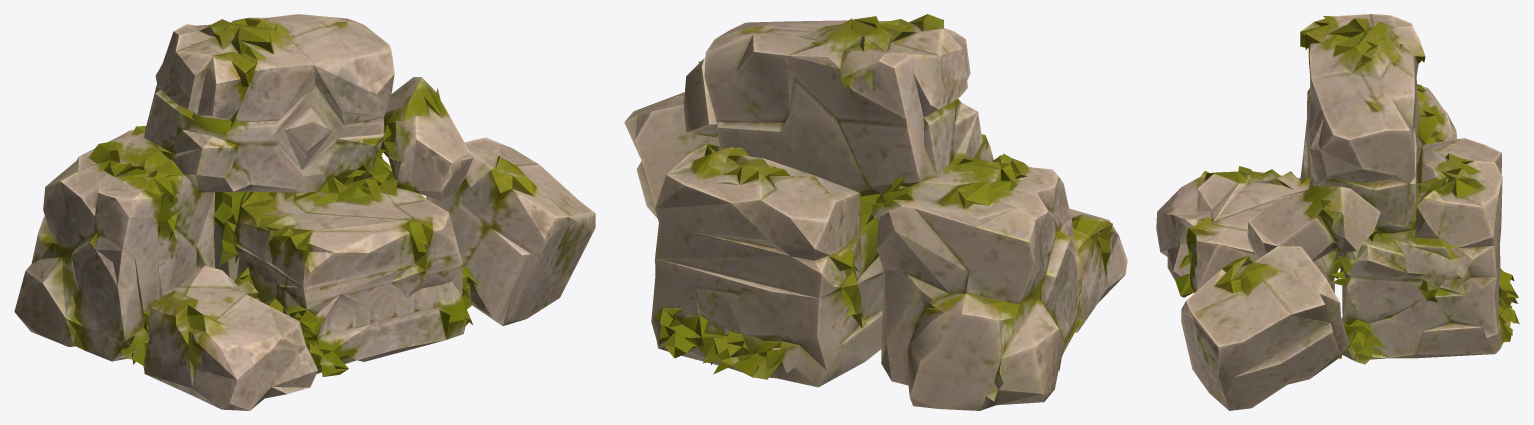
Rendered from ruin.glb.
3 renders of one model, left to right at view 1: azimuth 30°, elevation 25°; view 2: azimuth 150°, elevation 25°; view 3: azimuth 270°, elevation 25°, orthographic. The views are drawn at different scales.
Bounding box in the file's own units: 1.9 × 1.1 × 1.35.
1 material, 1 textured.
